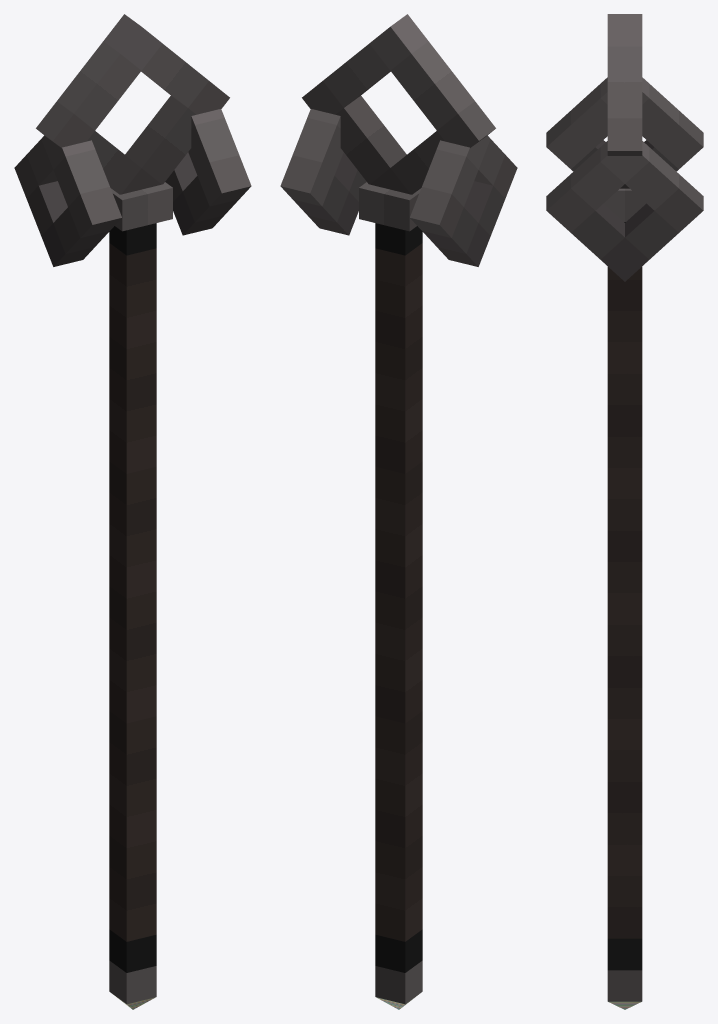
Rendered from staff_iron.obj.
3 views of the same model, side by side, from view 1: azimuth 30°, elevation 25°; view 2: azimuth 150°, elevation 25°; view 3: azimuth 270°, elevation 25° (orthographic).
Visible parts, largest first — view 1: STAFF_VAR7_Cube.016; view 2: STAFF_VAR7_Cube.016; view 3: STAFF_VAR7_Cube.016.
Boxes of the visible parts, x1,y1,x2,y2 form: STAFF_VAR7_Cube.016: (14, 14, 251, 1009); STAFF_VAR7_Cube.016: (280, 14, 517, 1009); STAFF_VAR7_Cube.016: (546, 14, 703, 1009).
Size of the model in its own units: 0.3719 by 1.98 by 0.2835.
